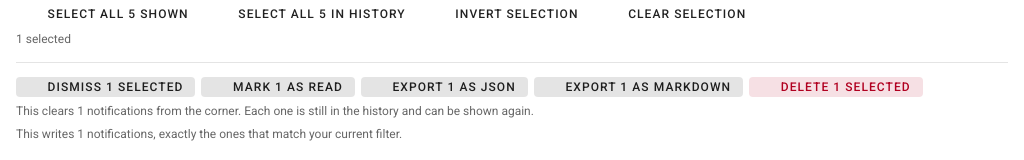
export › reports failure rather than pretending the clipboard worked
Click the button "Export 1 as JSON".
click(444, 87)  # box x1=361 y1=77 x2=528 y2=97
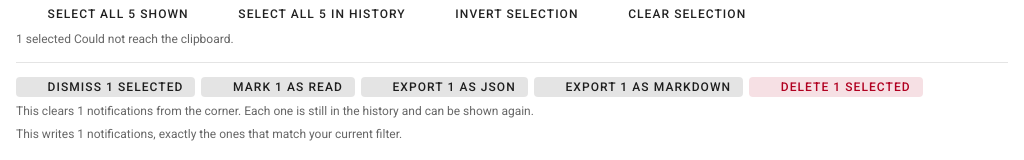
Expected: the text "Could not reach the clipboard." is shown, x1=74 y1=32 x2=234 y2=46
